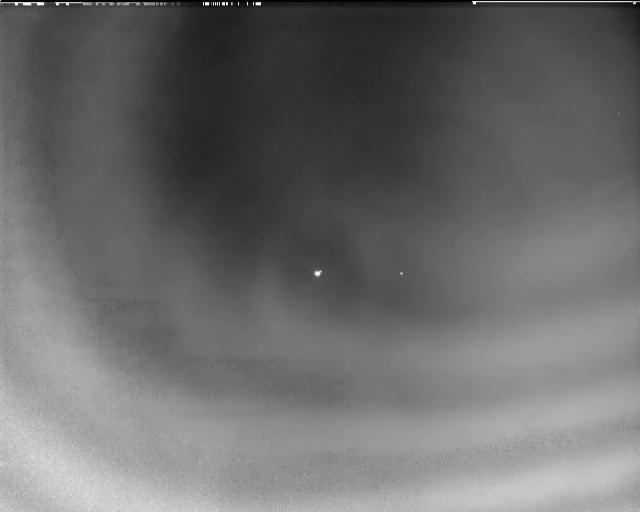uav: (313, 269, 323, 278)
